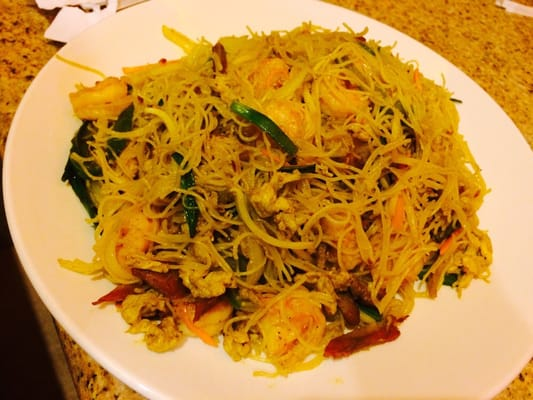sushi: (20, 10, 519, 396)
